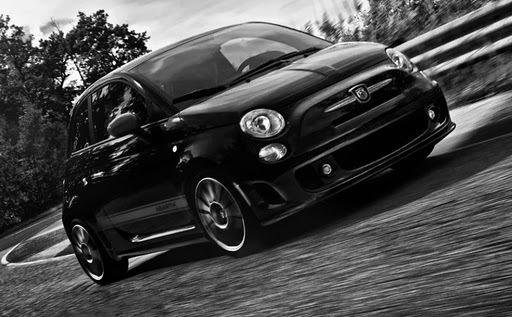car: (59, 18, 458, 288)
